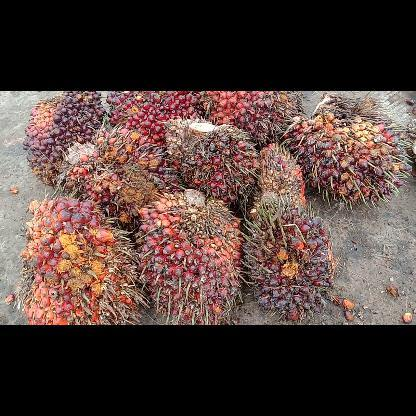TBS masak: (22, 196, 150, 324), (288, 94, 414, 207), (138, 188, 242, 324), (250, 194, 336, 322), (60, 128, 174, 223), (165, 118, 257, 214), (22, 91, 106, 185), (108, 90, 204, 146), (205, 90, 301, 144), (262, 142, 306, 212)
